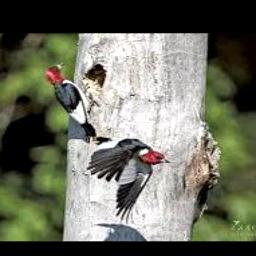Woodpecker: (87, 139, 170, 223), (47, 62, 98, 137)
